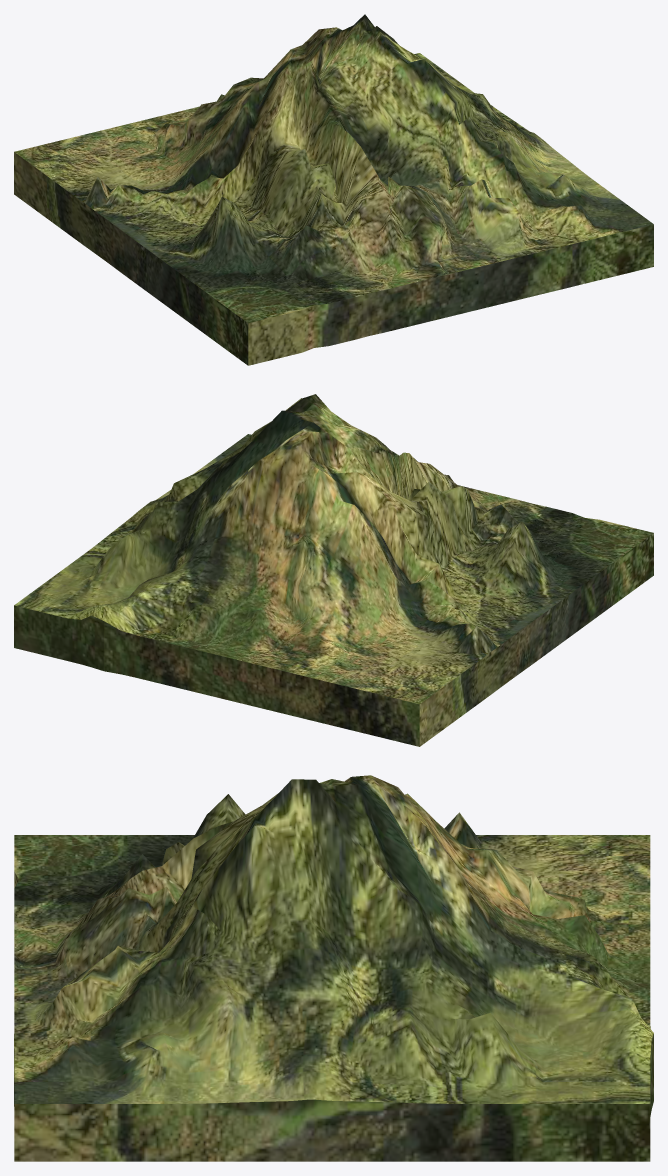
The model's file is mountain_fbx.fbx.
3 renders of one model, top to bottom at view 1: azimuth 30°, elevation 25°; view 2: azimuth 150°, elevation 25°; view 3: azimuth 270°, elevation 25°, orthographic. The views are drawn at different scales.
Visible parts, largest first — view 1: Mountion_2; view 2: Mountion_2; view 3: Mountion_2.
Part boxes in pixels (x1=…): Mountion_2: x1=14, y1=14, x2=653, y2=365; Mountion_2: x1=14, y1=394, x2=653, y2=746; Mountion_2: x1=14, y1=775, x2=653, y2=1161.
Bounding box in the file's own units: 15.43 × 7.28 × 15.52.
1 material, 1 textured.
